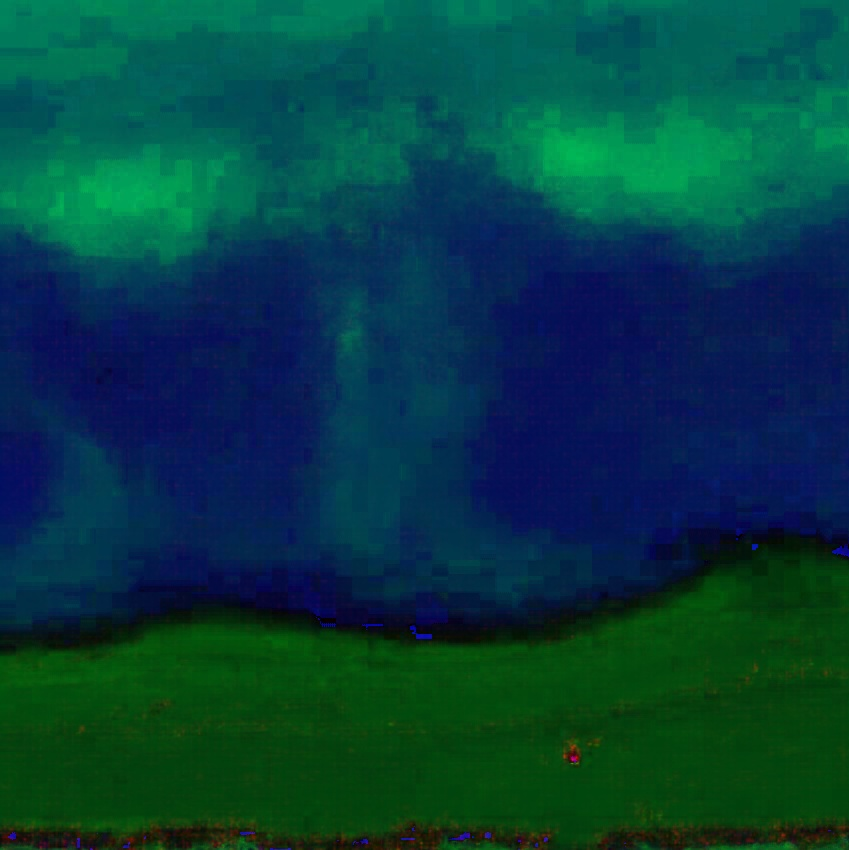rip_current: (267, 134, 561, 612)
